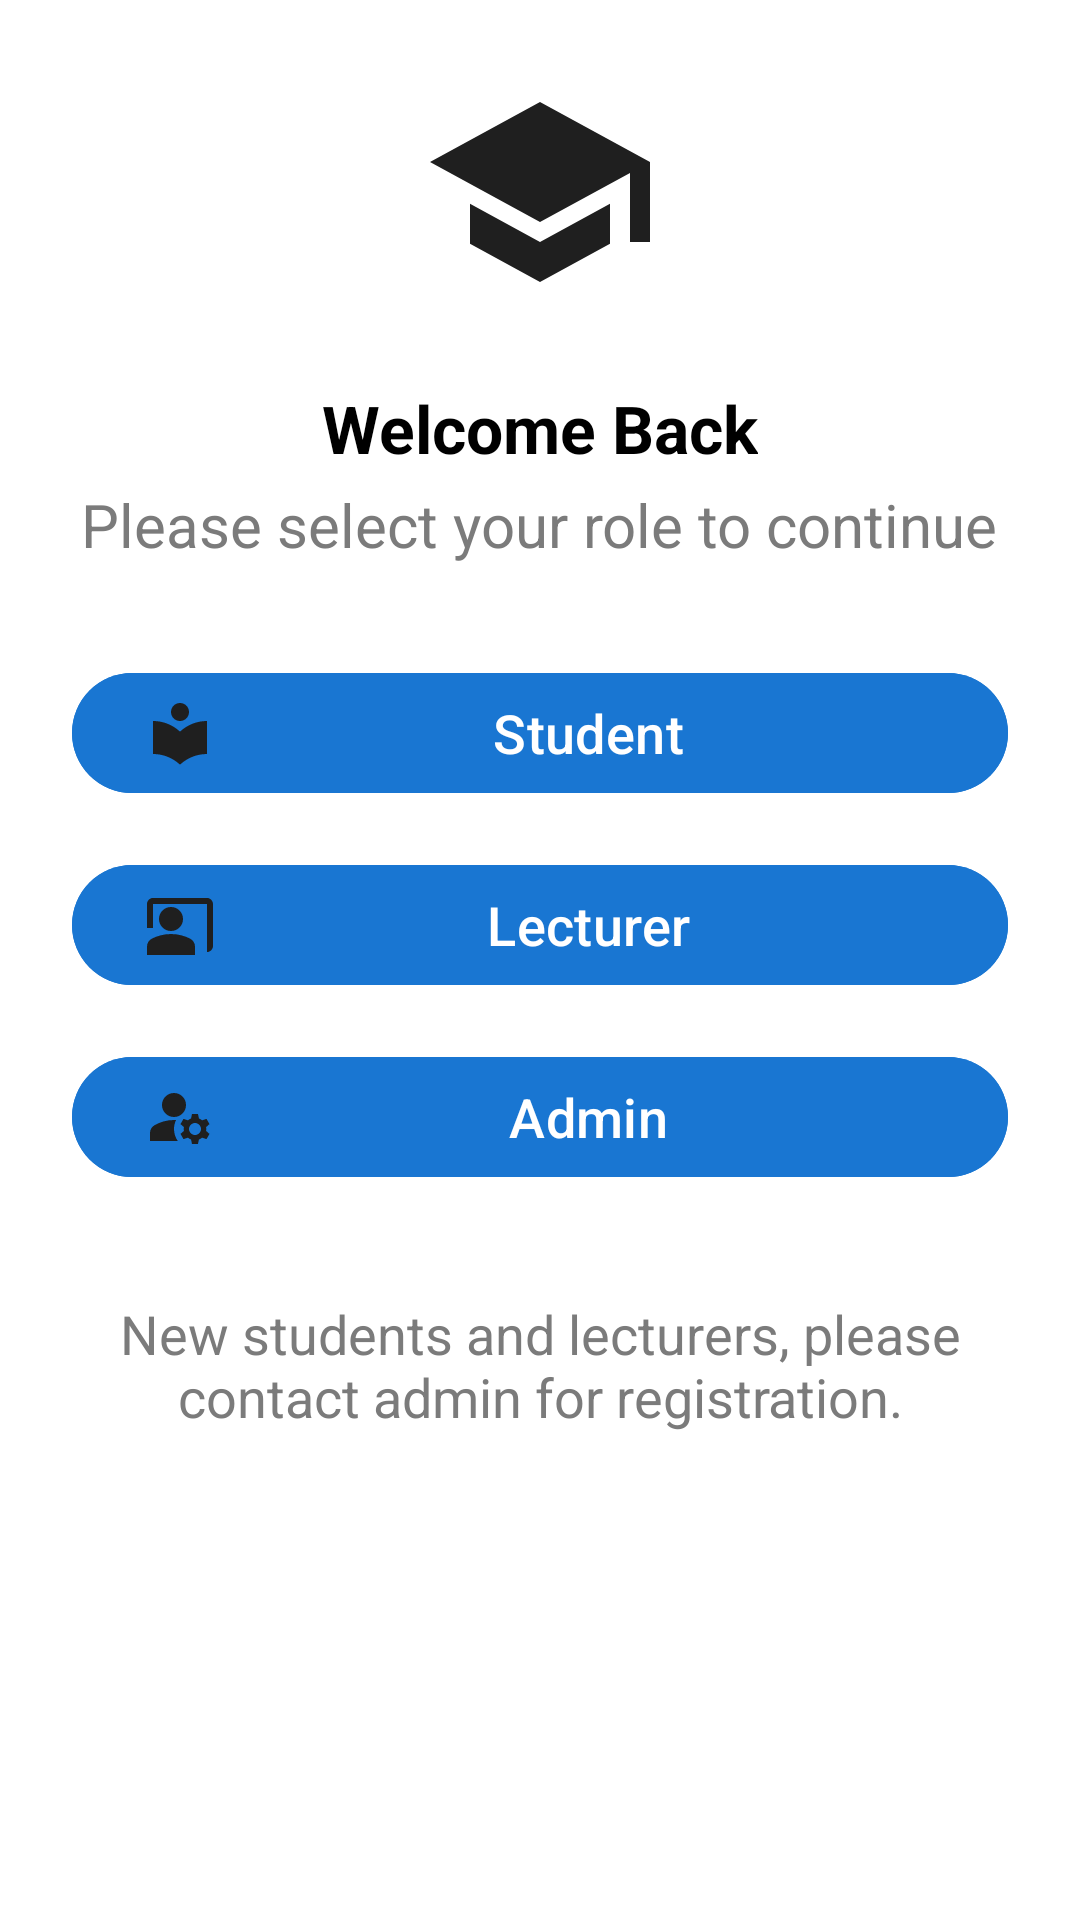

Named icons in this screenshot (1080px×1920px) and their bounding boxes, bbox=[x1, y1, x2, y2]:
graduation cap: bbox=[430, 102, 650, 282]
